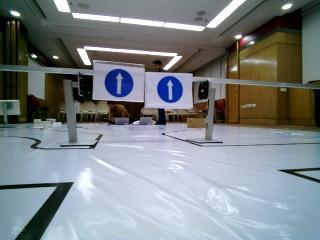straight: (95, 59, 144, 101), (146, 73, 193, 107)
